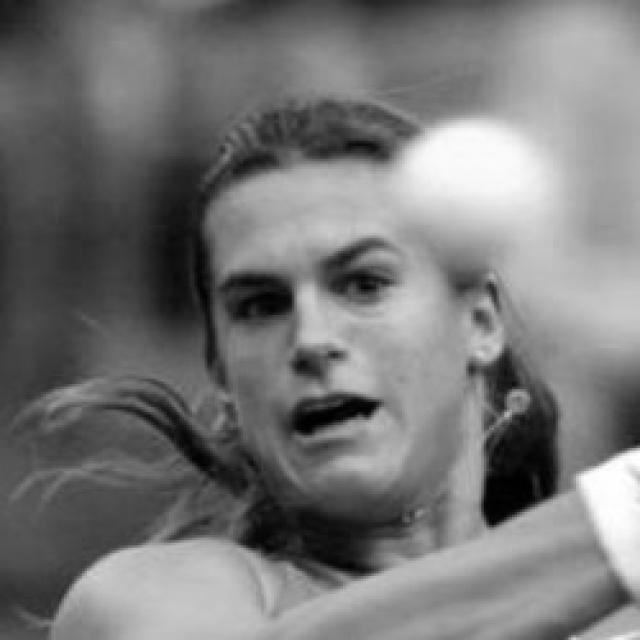real: (190, 108, 506, 522), (229, 260, 405, 319)
